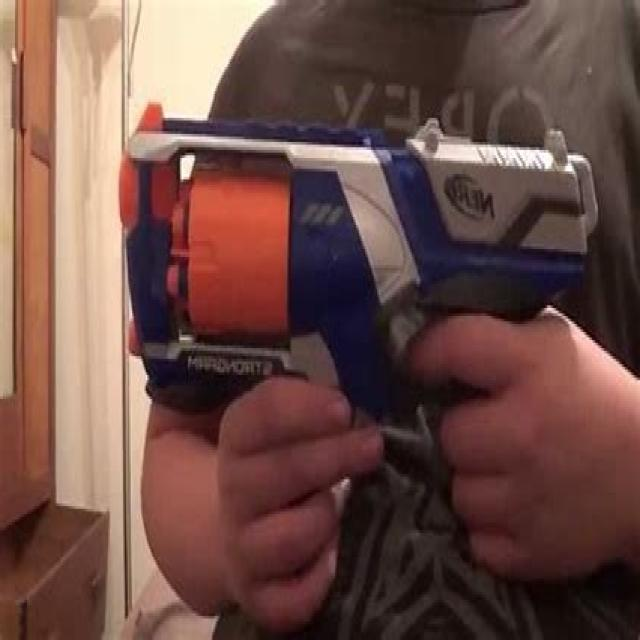nerf-maverik: (110, 76, 596, 554)
